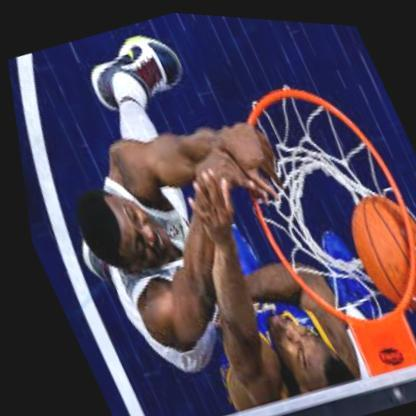basketball: (330, 178, 416, 316)
rim: (200, 56, 416, 389)
